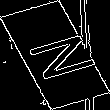N_E: (13, 27, 97, 83)
